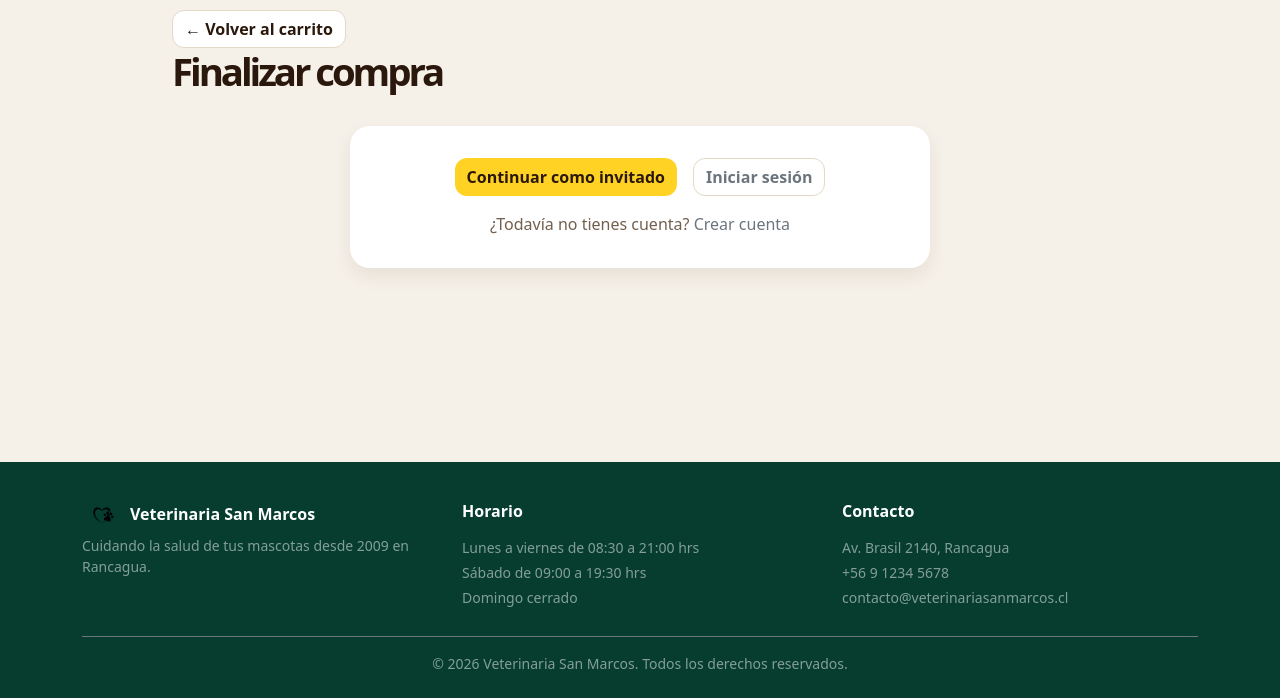
Test: permite confirmar un pedido como invitado
Click the button "Continuar como invitado" at point(566, 177), box [454,158,677,196]
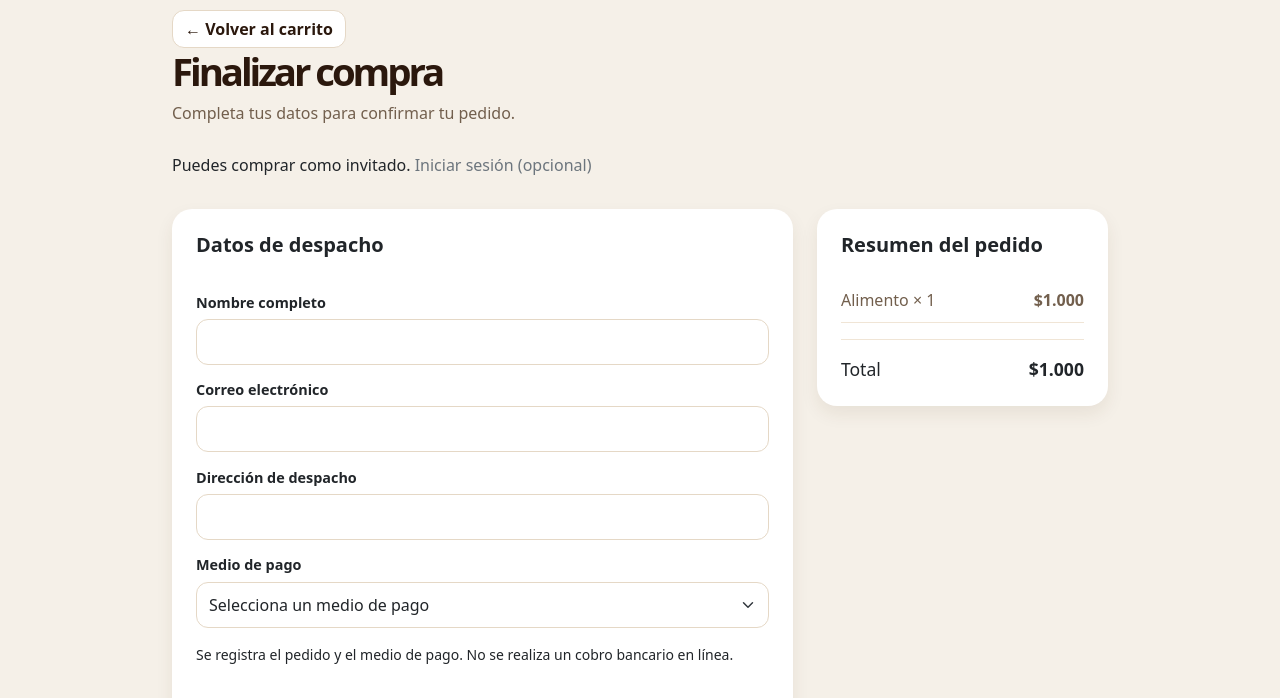
Type "Invitado" into the field labelled "Nombre completo" at point(482, 342), box [196,319,769,365]
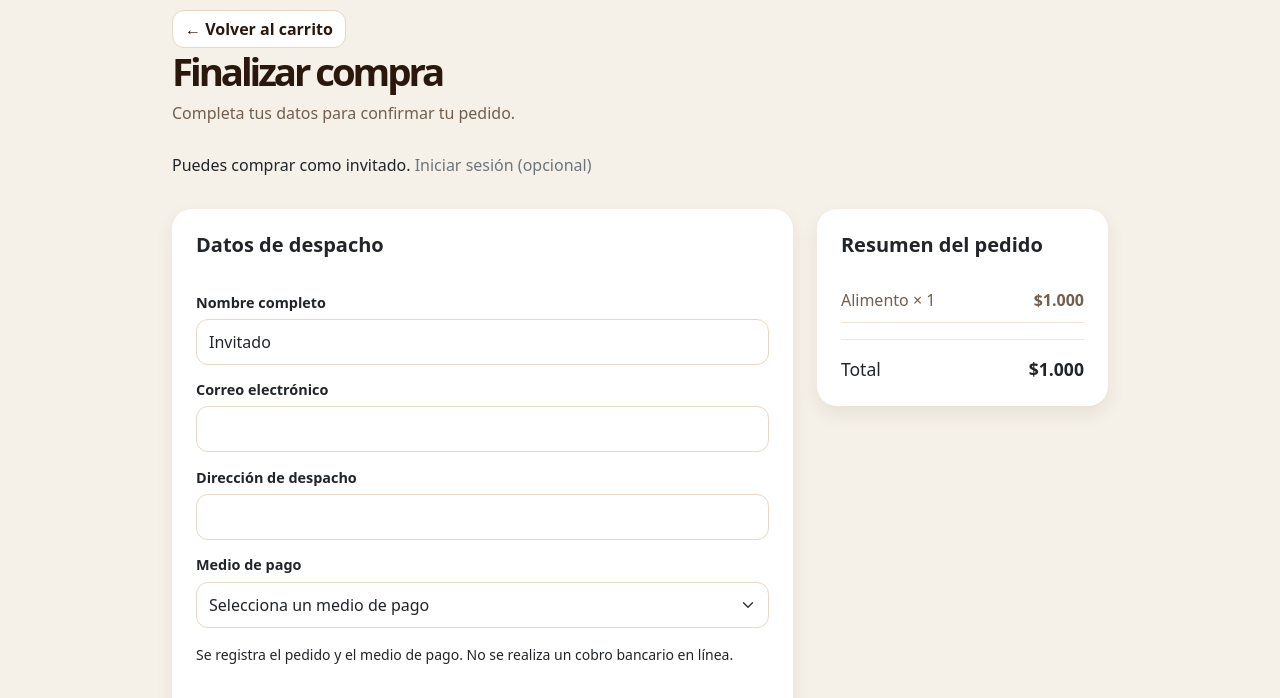
Type "invitado@example.com" into the field labelled "Correo electrónico" at point(482, 430), box [196,406,769,452]
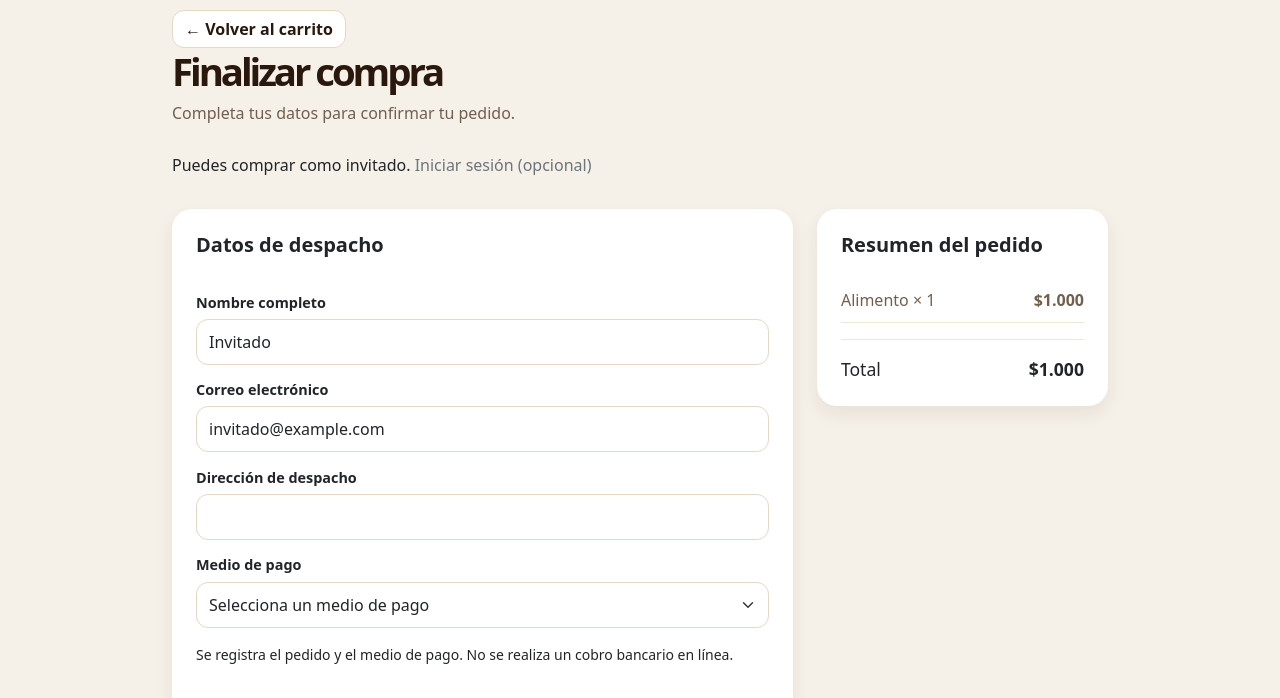
Type "Dirección indicada" into the field labelled "Dirección de despacho" at point(482, 517), box [196,494,769,540]
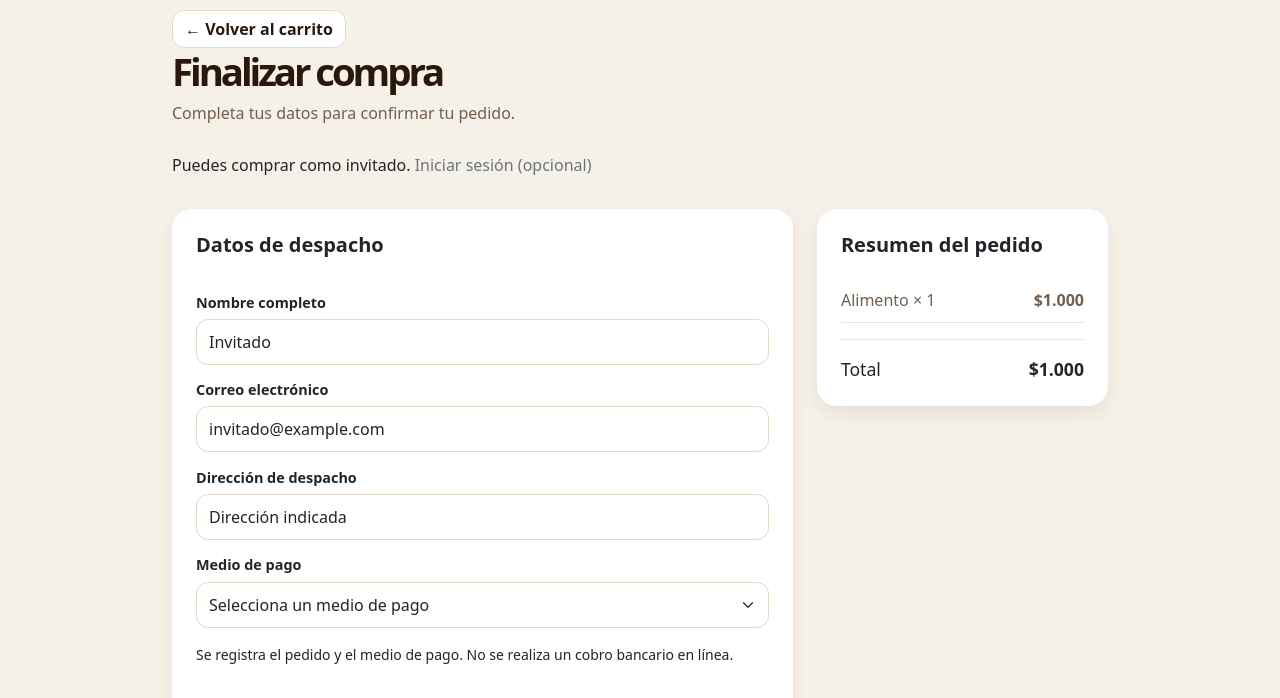
Select "Transferencia bancaria" in the dropdown labelled "Medio de pago" at point(482, 605), box [196,582,769,628]
(page scrolled)
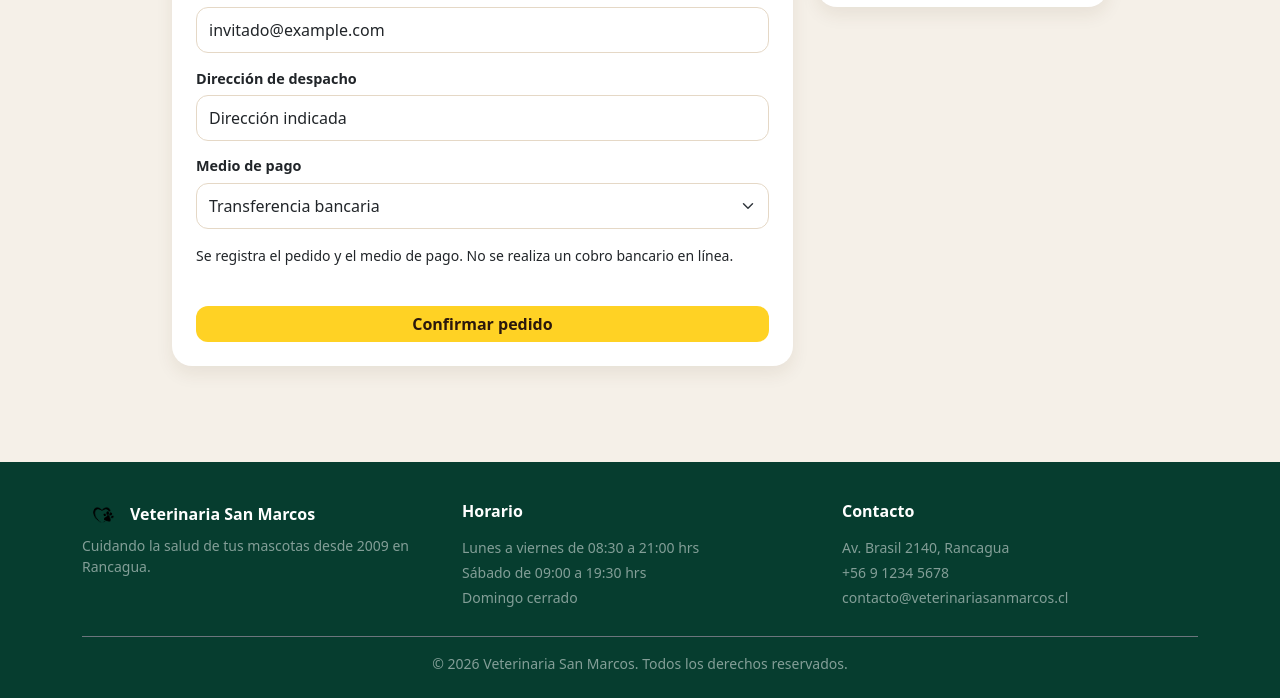
Click the button "Confirmar pedido" at point(482, 324), box [196,306,769,342]
(page scrolled)
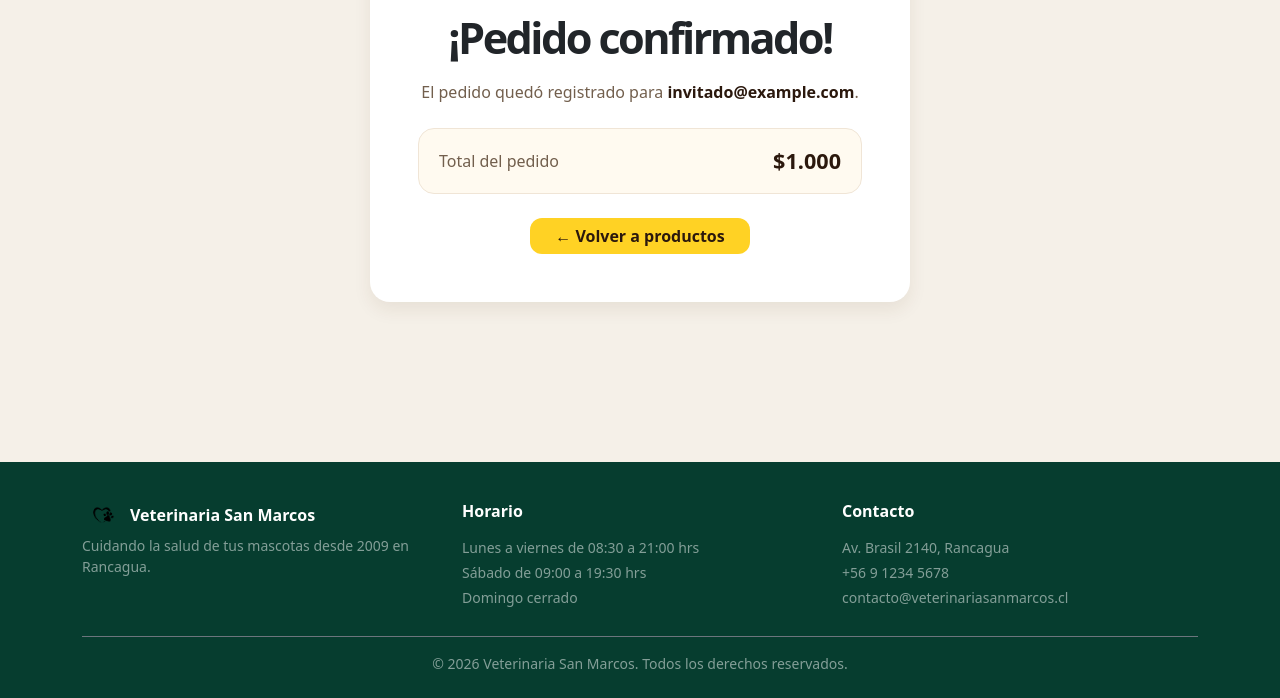
Now the heading "¡Pedido confirmado!" is shown, box [418,12,862,64]
